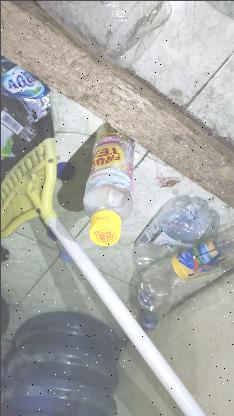Plastic Bottle: (136, 229, 234, 307), (82, 124, 132, 244)
